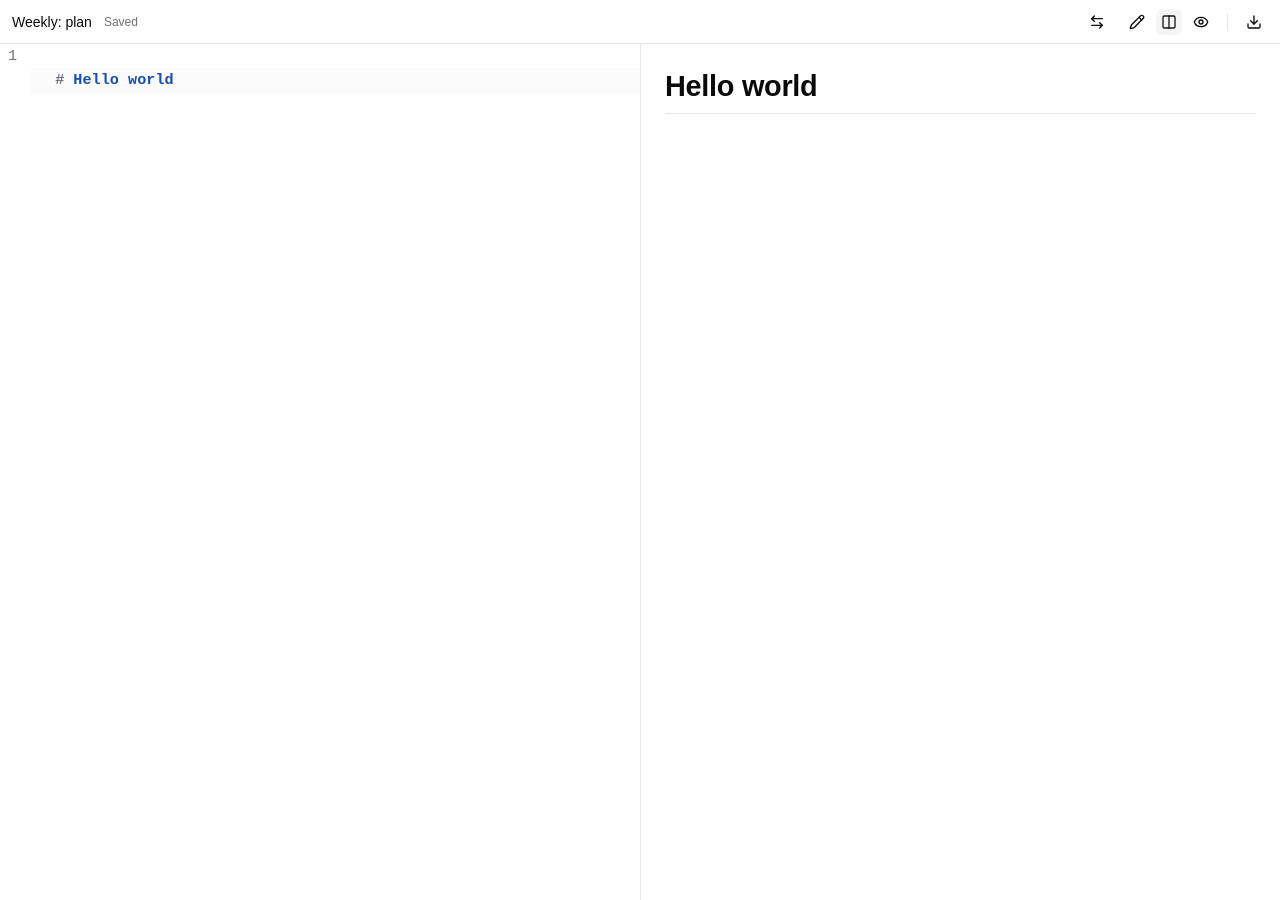
it: NotesEditor export › shows an error when the Markdown export fails
What coordinates should you click on to do the following:
click the button named "Export note"
I would click on:
 (1254, 22)
Its box is [1240,8,1268,36].
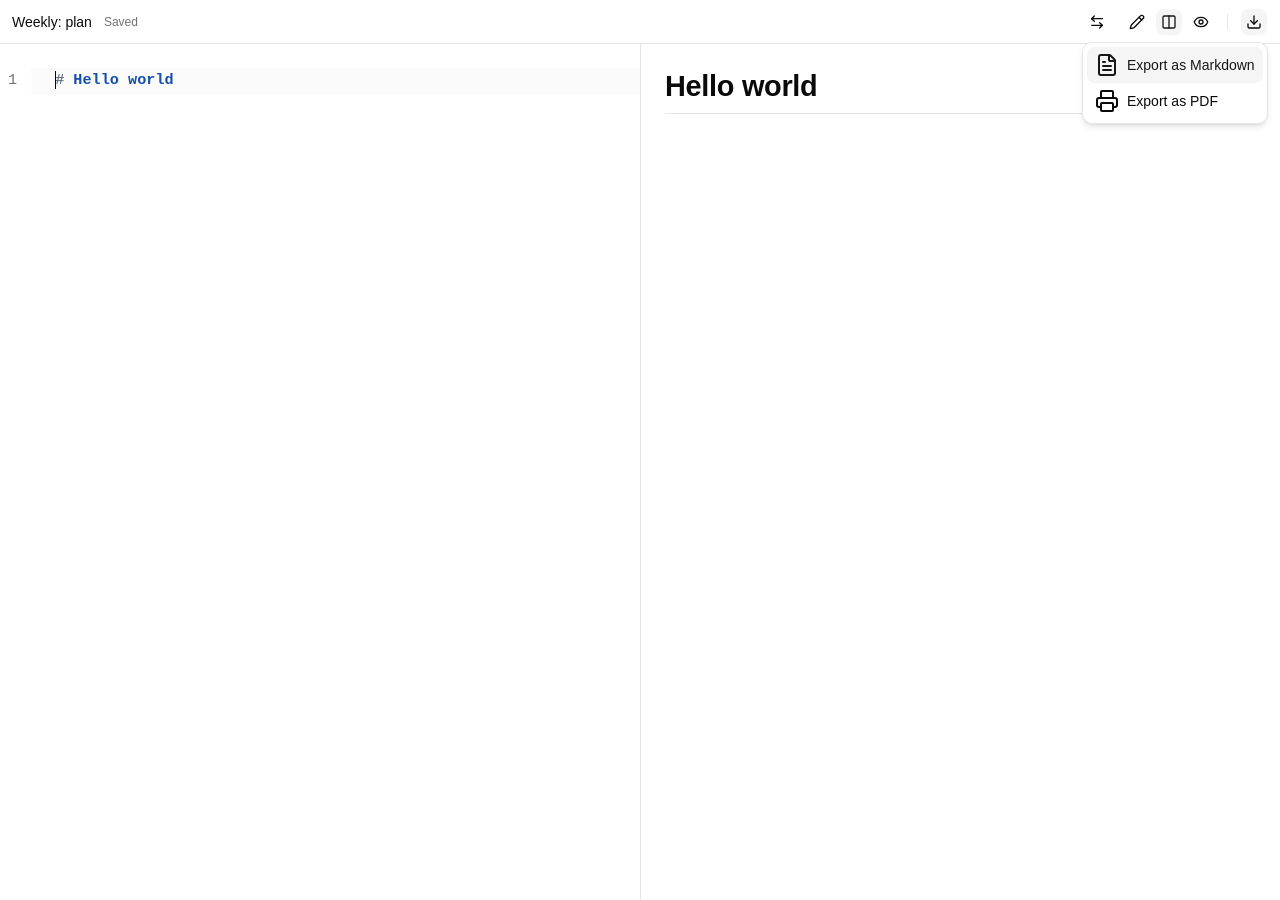
What coordinates should you click on to do the following:
click the menu item "Export as Markdown"
I would click on:
 (1175, 65)
Its box is [1087,47,1263,83].
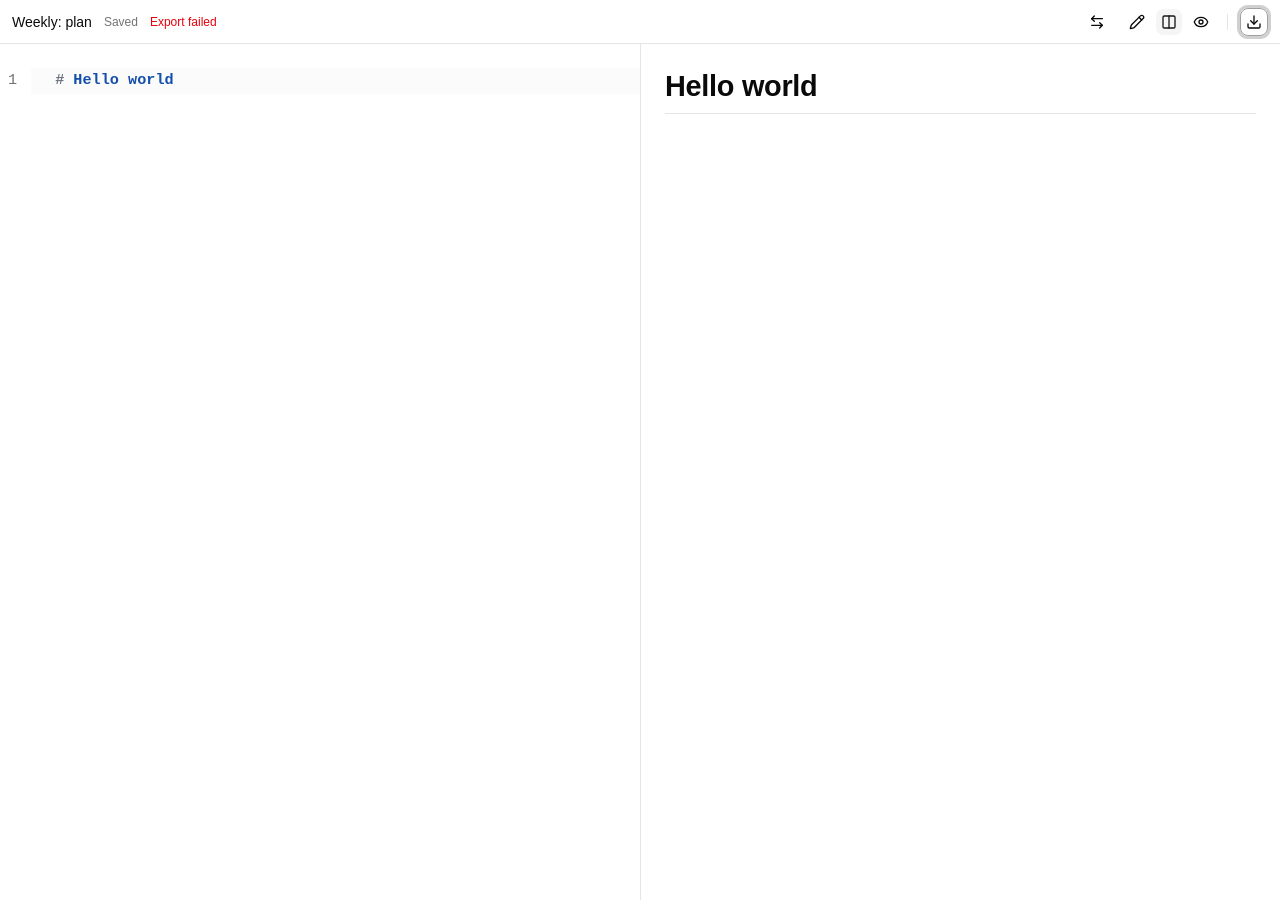
Check: the text "Export failed" is shown, box [150,14,217,30]
